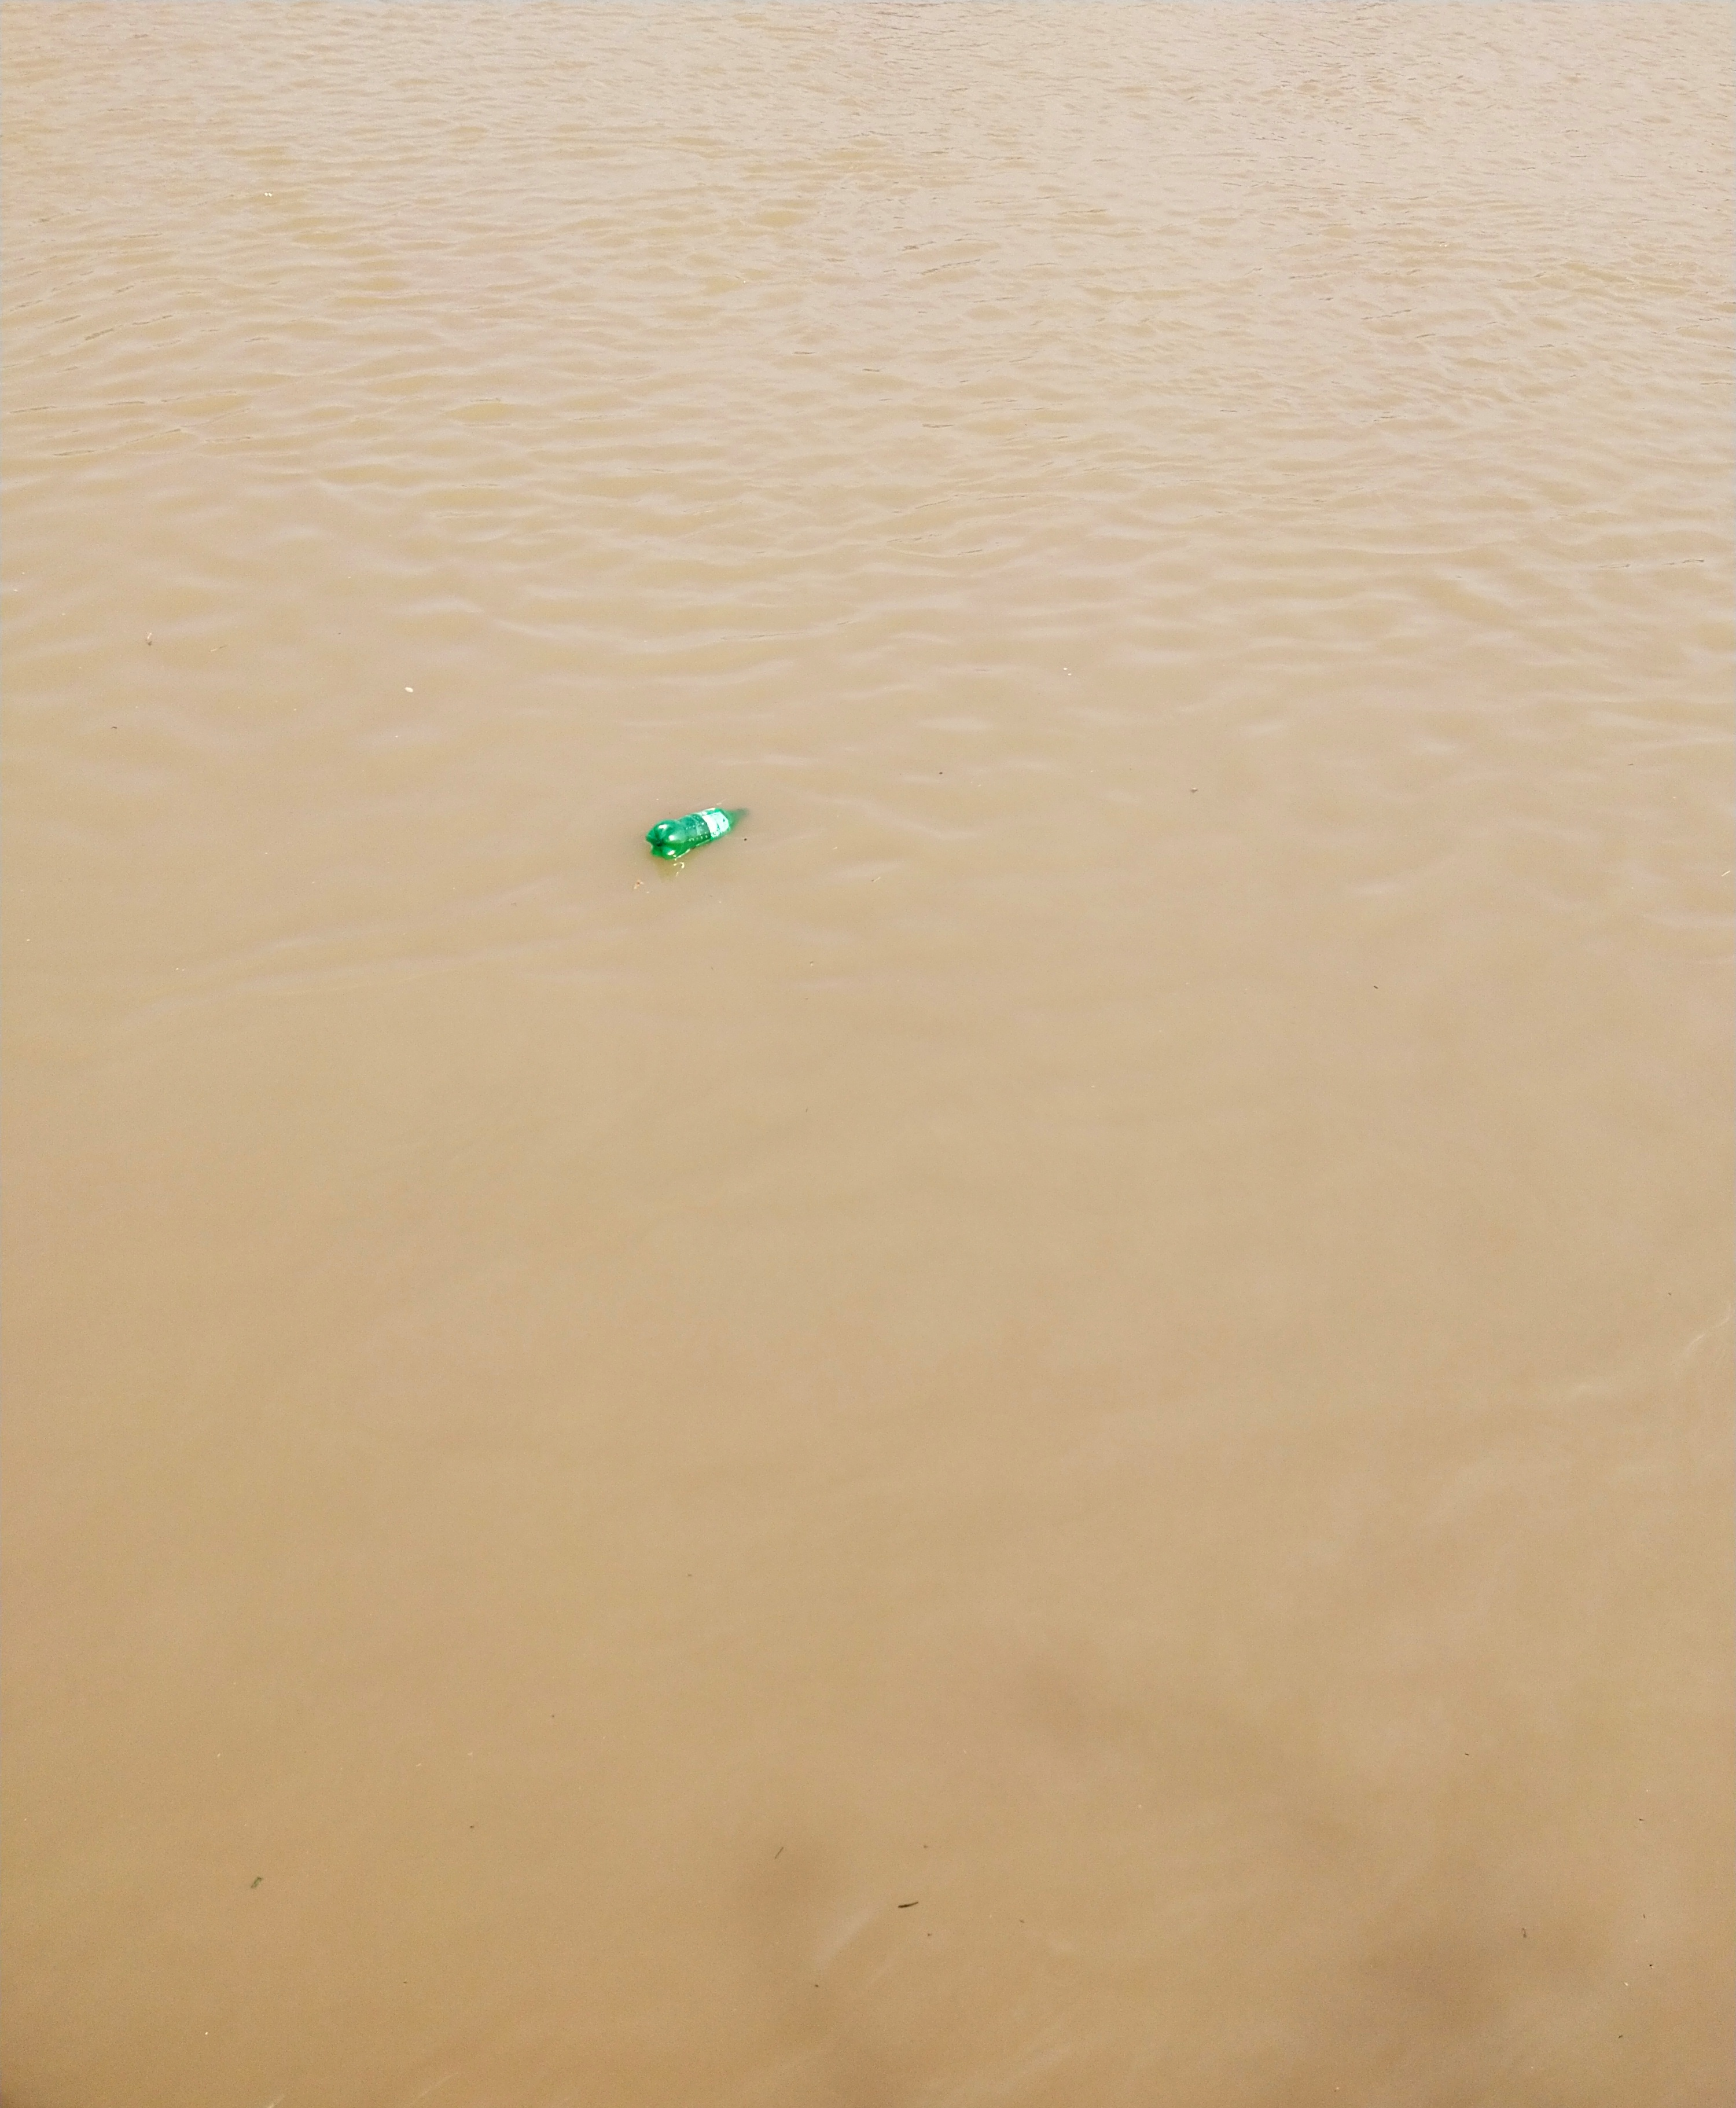Plastic Bottle: (644, 807, 749, 861)
